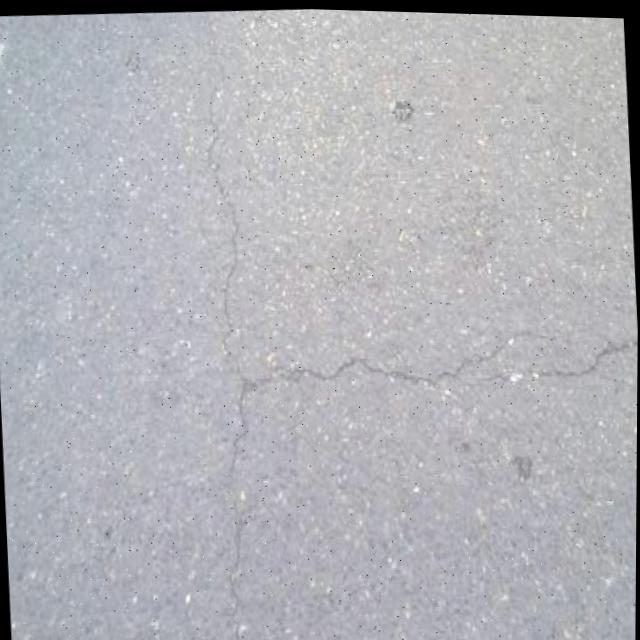Crack: (176, 8, 273, 640), (254, 309, 638, 430)
